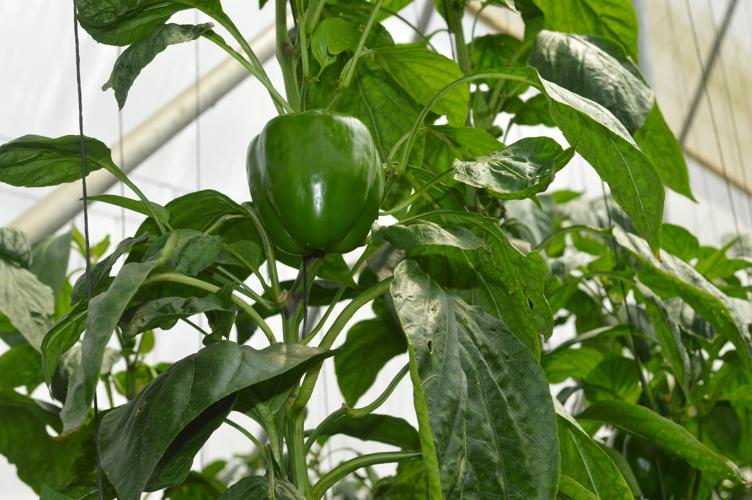BellPepper: (243, 107, 379, 251)
